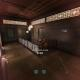Character: (39, 36, 48, 52)
Head: (42, 36, 45, 40)
